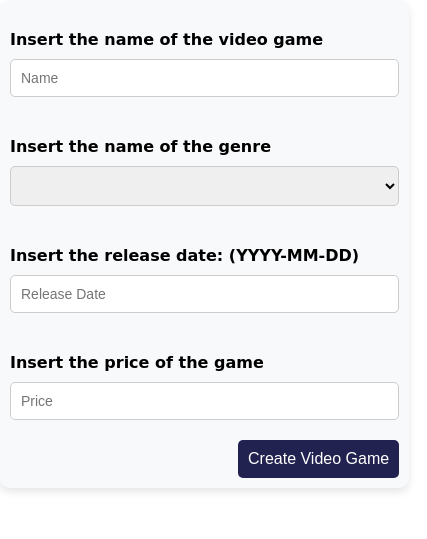
VideoGameForm › show error message on value changed
In the field with placeholder "Price": (205,401) x1=10 y1=382 x2=399 y2=420, type "one hundred"
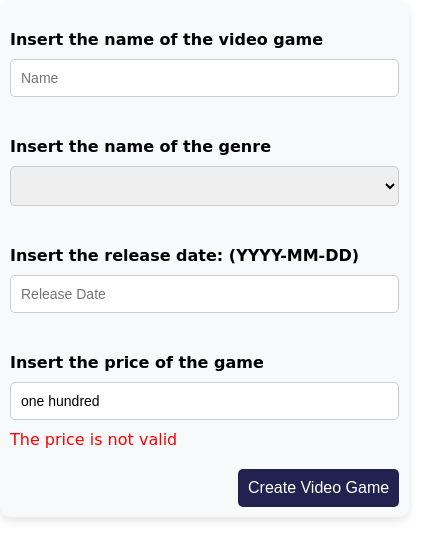
Now the text with class "error" reads "The price is not valid", box x1=10 y1=430 x2=177 y2=449
